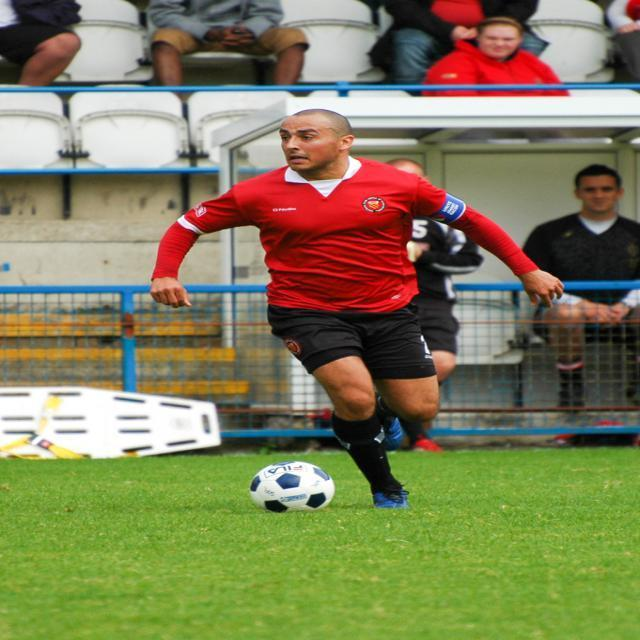football: (239, 451, 344, 531)
